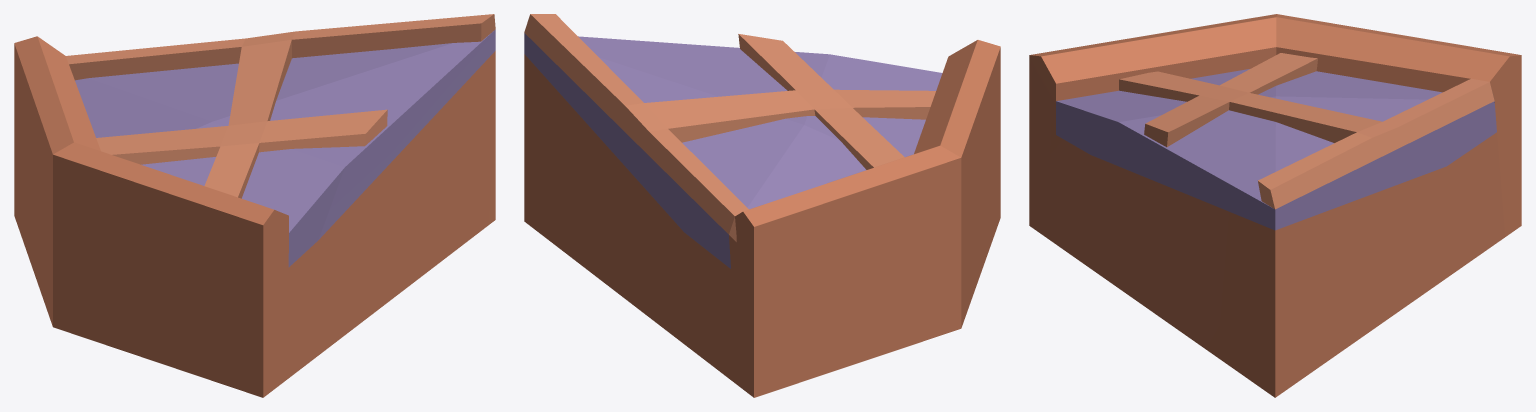
The model's file is Pie_02.fbx.
3 views of the same model, side by side, from view 1: azimuth 30°, elevation 25°; view 2: azimuth 150°, elevation 25°; view 3: azimuth 270°, elevation 25° (orthographic).
Parts seen in each view (by area): view 1: Pie_02; view 2: Pie_02; view 3: Pie_02.
Part boxes in pixels (x1,y1,x2,y2): Pie_02: [14, 14, 495, 397]; Pie_02: [524, 14, 1000, 397]; Pie_02: [1029, 14, 1521, 397].
Size of the model in its own units: 14.53 by 6.55 by 14.17.
